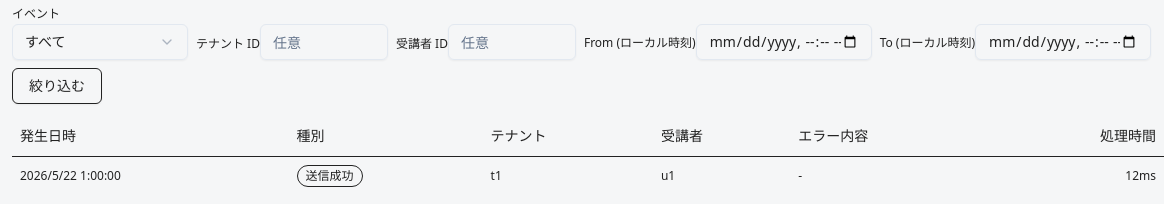
Test case: AuditLogTable › state race: 古い fetch のレスポンスが後着しても結果に反映されない
Expected: the text "送信成功" is shown, [296,164,362,186]
Click the button "絞り込む" at (57, 86), box [12,68,102,104]
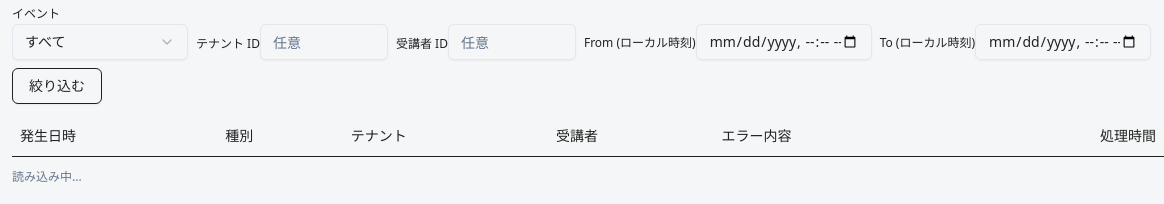
Click the button "絞り込む" at (57, 86), box [12,68,102,104]
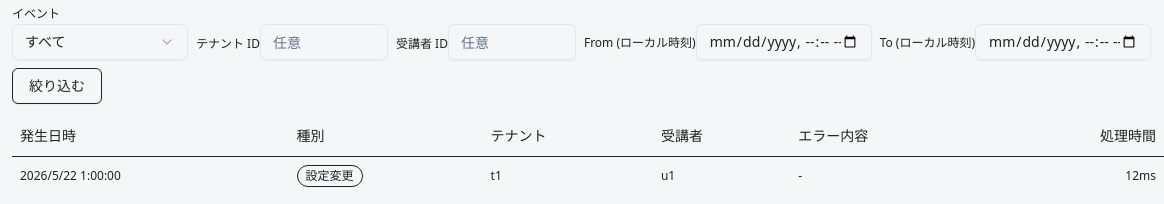
Expected: the text "設定変更" is shown, [296,164,362,186]
